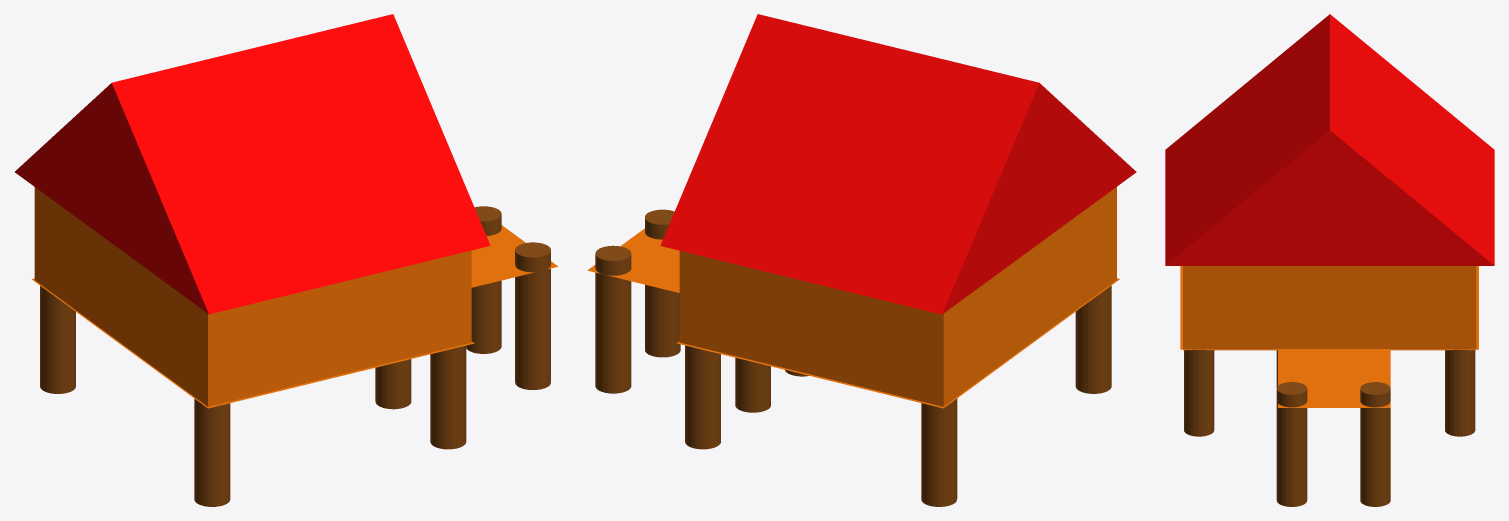
Rendered from Fisher.fbx.
3 renders of one model, left to right at view 1: azimuth 30°, elevation 25°; view 2: azimuth 150°, elevation 25°; view 3: azimuth 270°, elevation 25°, orthographic. The views are drawn at different scales.
Visible parts, largest first — view 1: Cube.002, Cube.001, Cylinder, Cylinder.006, Cube.008, Plane; view 2: Cube.008, Cube.001, Cylinder, Cylinder.006, Cube.002, Plane; view 3: Cube.008, Cube.002, Cube.001, Cylinder.006, Plane, Cylinder.
Boxes of the visible parts, x1,y1,x2,y2 form: Cube.002: (111, 14, 490, 314); Cube.001: (34, 187, 471, 406); Cylinder: (40, 286, 466, 506); Cylinder.006: (466, 206, 550, 389); Cube.008: (15, 83, 111, 242); Plane: (31, 225, 557, 408); Cube.008: (660, 14, 1039, 314); Cube.001: (679, 187, 1116, 406); Cylinder: (685, 285, 1111, 506); Cylinder.006: (595, 209, 680, 393); Cube.002: (1039, 83, 1136, 242); Plane: (587, 228, 1119, 408); Cube.008: (1330, 14, 1494, 265); Cube.002: (1165, 14, 1329, 265); Cube.001: (1183, 266, 1476, 350); Cylinder.006: (1276, 382, 1390, 506); Plane: (1180, 266, 1478, 407); Cylinder: (1184, 349, 1475, 436).
Size of the model in its own units: 336 by 294 by 273.
